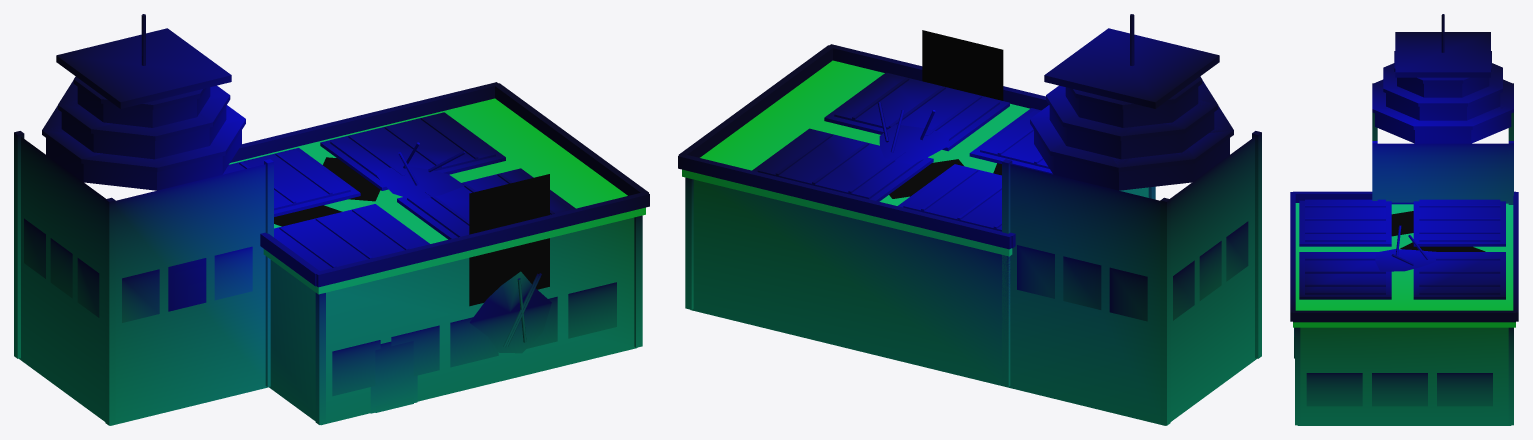
File: s_gatecontrol_damaged.glb
The picture shows the model from 3 angles, left to right: view 1: azimuth 30°, elevation 25°; view 2: azimuth 150°, elevation 25°; view 3: azimuth 270°, elevation 25°; orthographic projection. The views are drawn at different scales.
Parts seen in each view (by area): view 1: lod0; view 2: lod0; view 3: lod0.
Part boxes in pixels (x1,y1,x2,y2): lod0: (14,14,649,425); lod0: (678,14,1261,425); lod0: (1290,14,1518,425).
Size of what is drawn, in the model's own units: 22.75 by 16 by 12.4.
